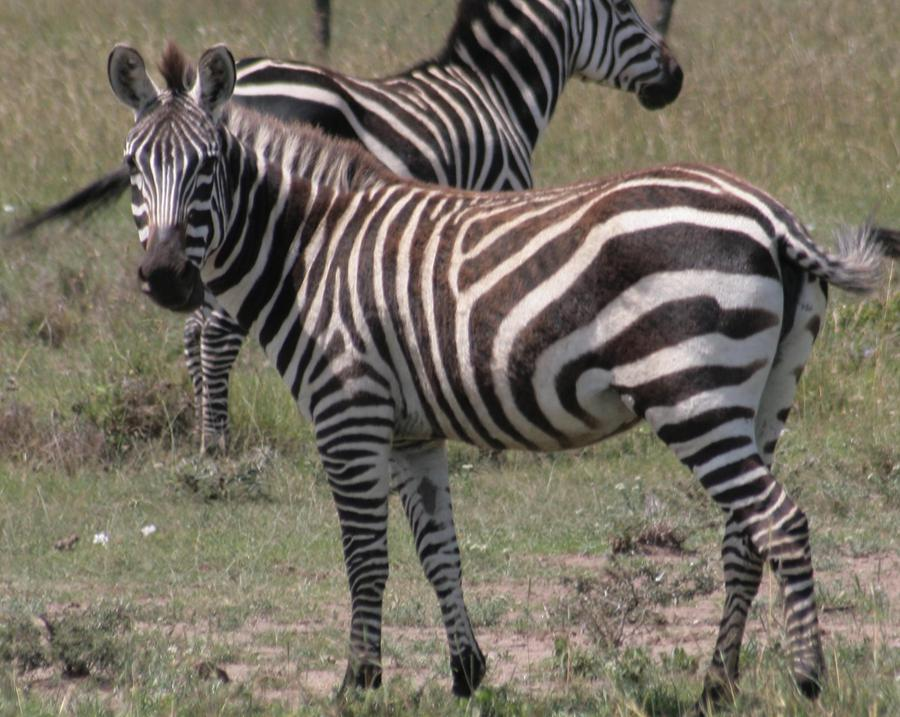zebra_plains: (249, 158, 753, 463)
